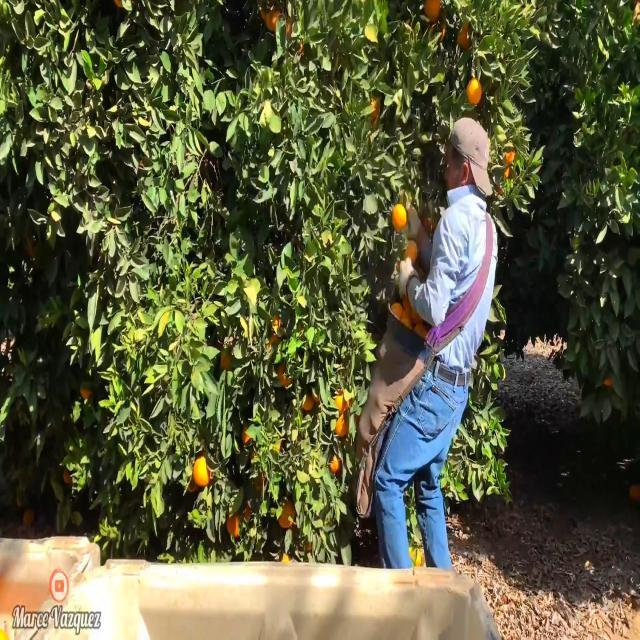Jeruk Sudah Matang: (328, 384, 354, 437), (388, 200, 412, 233), (192, 457, 214, 490), (403, 231, 421, 264), (466, 72, 484, 102)
